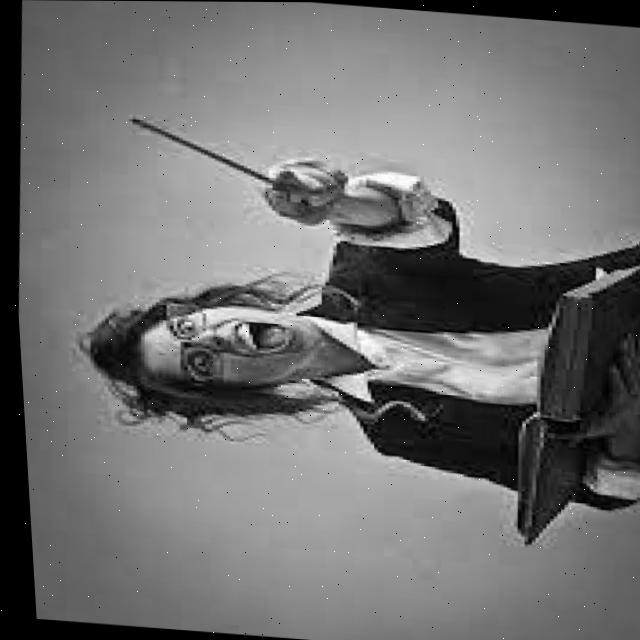angry: (84, 256, 370, 426)
